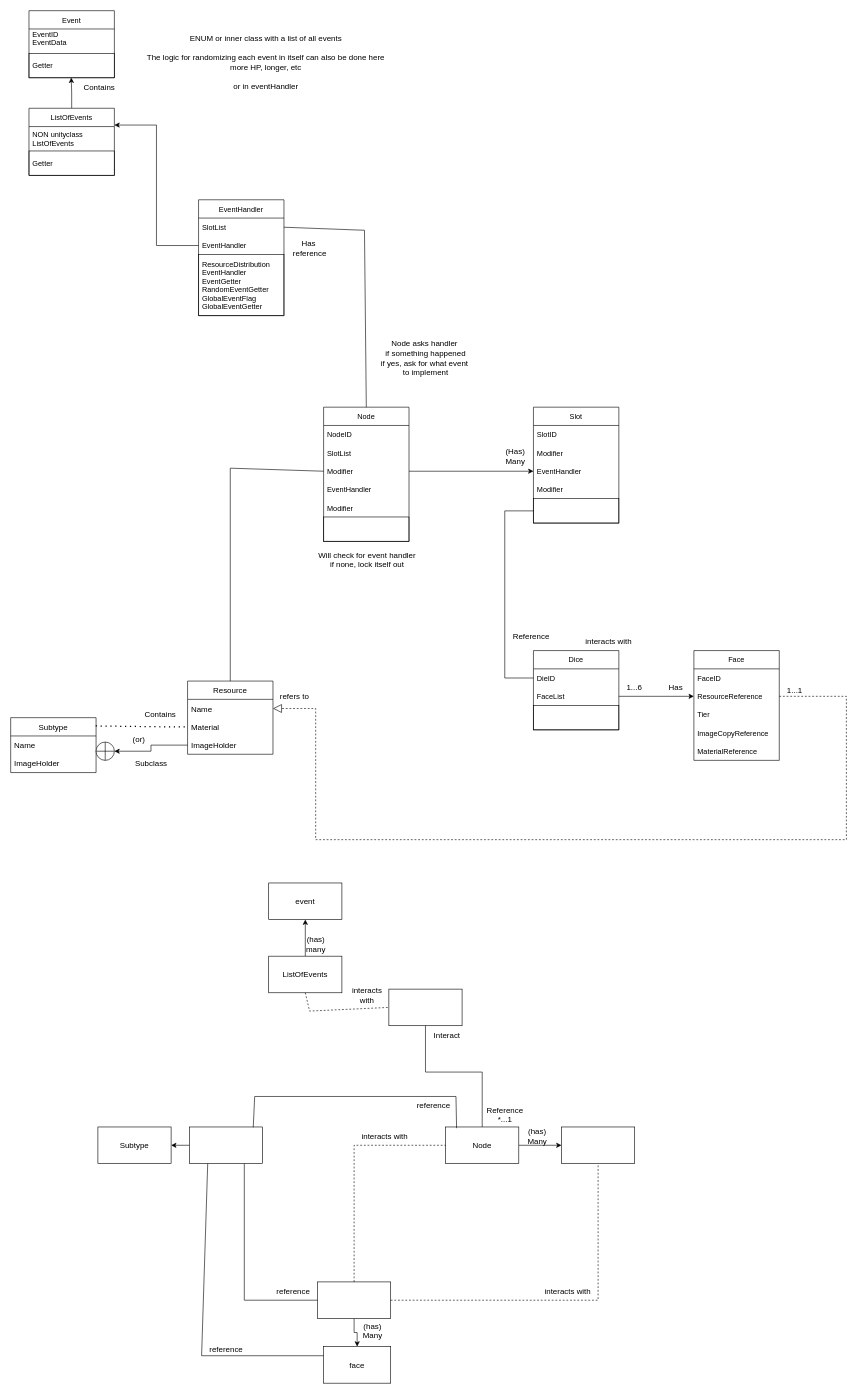
Some shapes in this 866 by 1394 pixel diagram are drawn without their labels. The shapes that lost their labels are listed below. From the top down, each one's centre as x and y in pixels, then its label:
At point (366, 528): "ResourceDistribution EventHandler".
At point (576, 510): "DiceInteraction EventHandler".
At point (576, 717): "Item 3".
At point (425, 1007): "GlobalEventHandler".
At point (226, 1145): "Resources".
At point (598, 1145): "Slots".
At point (354, 1300): "Die".
